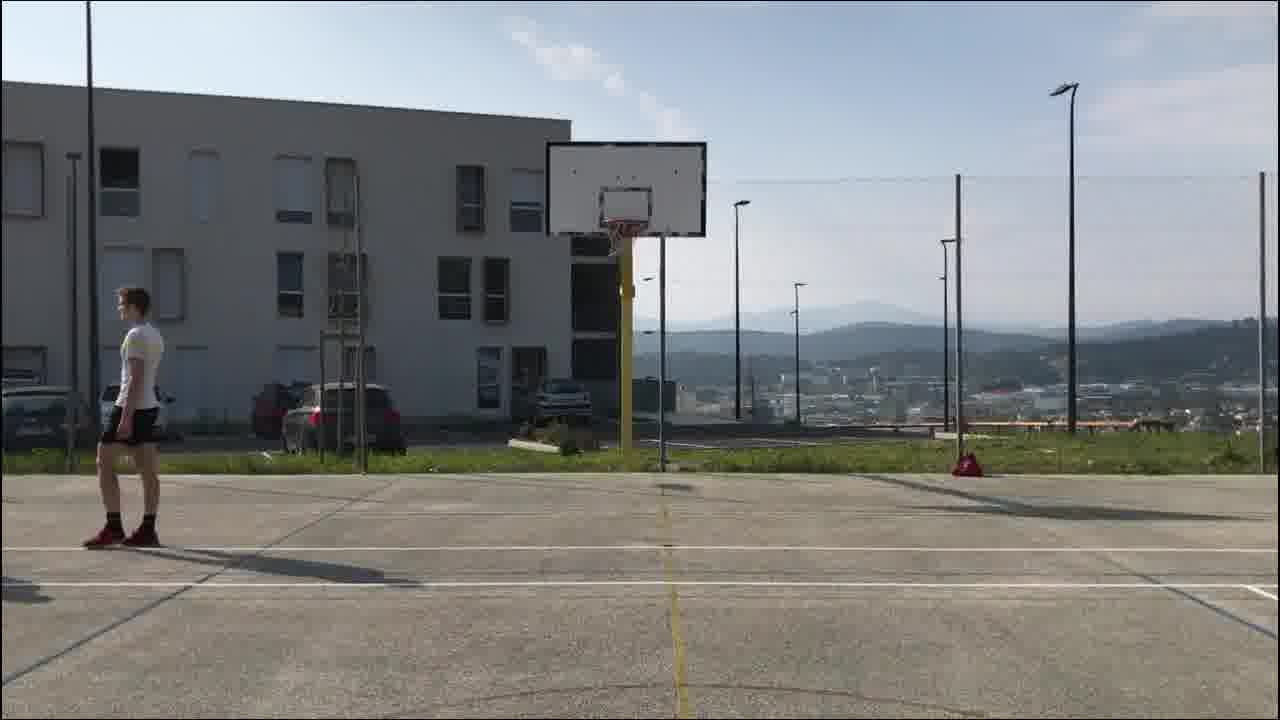jugador: (67, 274, 175, 561)
